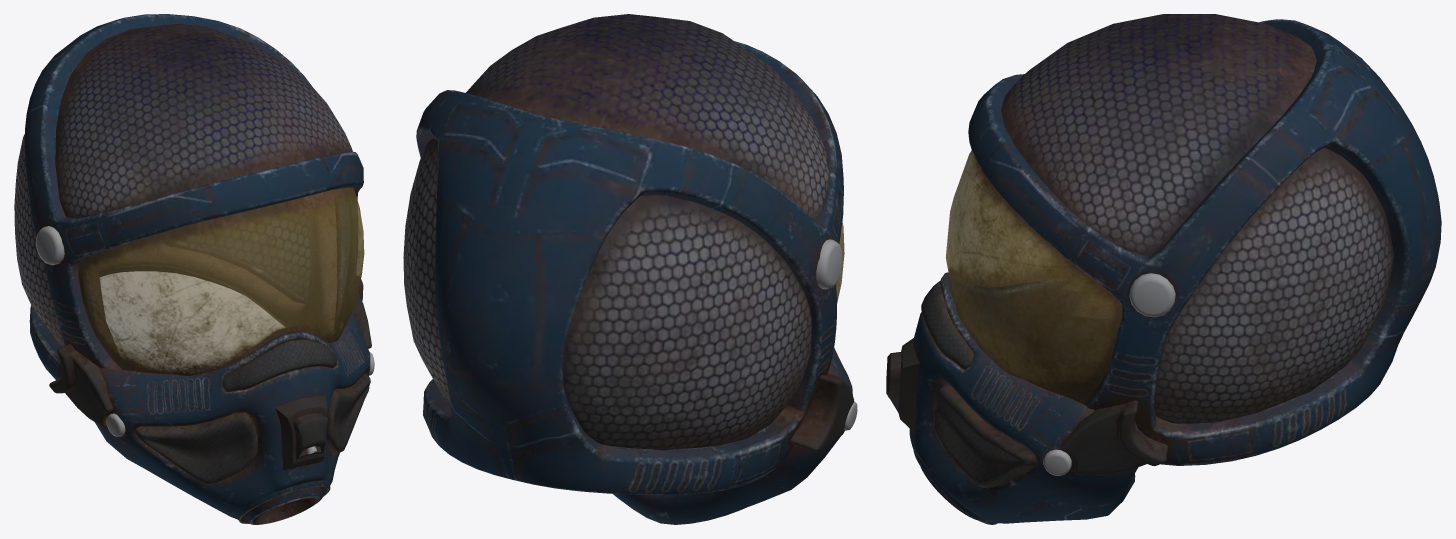
The model's file is sci_fi_space_helmet.glb.
3 renders of one model, left to right at view 1: azimuth 30°, elevation 25°; view 2: azimuth 150°, elevation 25°; view 3: azimuth 270°, elevation 25°, orthographic. The views are drawn at different scales.
Parts seen in each view (by area): view 1: pCylinder15_lambert1_0; view 2: pCylinder15_lambert1_0; view 3: pCylinder15_lambert1_0.
Part boxes in pixels (box(x1,y1,x2,y2)): pCylinder15_lambert1_0: box(14, 14, 374, 524); pCylinder15_lambert1_0: box(403, 14, 857, 524); pCylinder15_lambert1_0: box(886, 14, 1441, 524).
Bounding box in the file's own units: 0.2144 × 0.2717 × 0.2809.
1 material, 1 textured.
